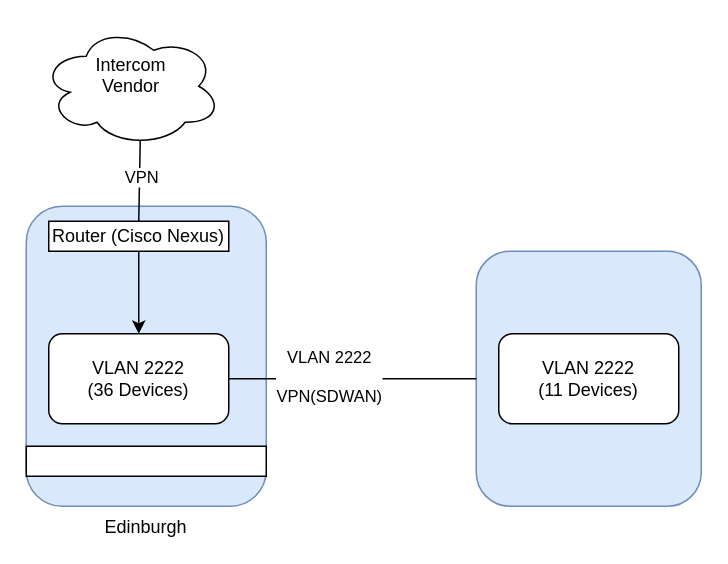
Image size: 728x564. Some labels were removed from this diagram. Here are the shapes that lost their labels. From the top down, the box of each, then its label:
(475, 250, 701, 506): Witham
(25, 445, 266, 476): FW (PA)
